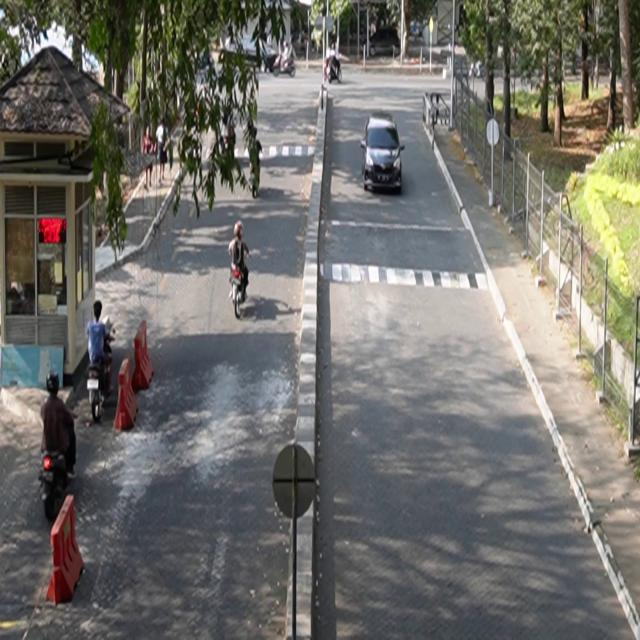car: (361, 112, 406, 195)
